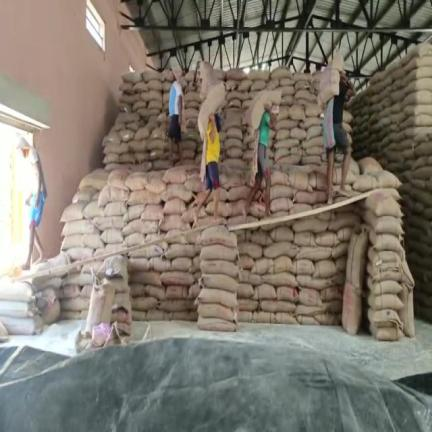Zone-Counting: (317, 51, 353, 203), (193, 84, 225, 225), (244, 91, 280, 215), (200, 157, 203, 180)
